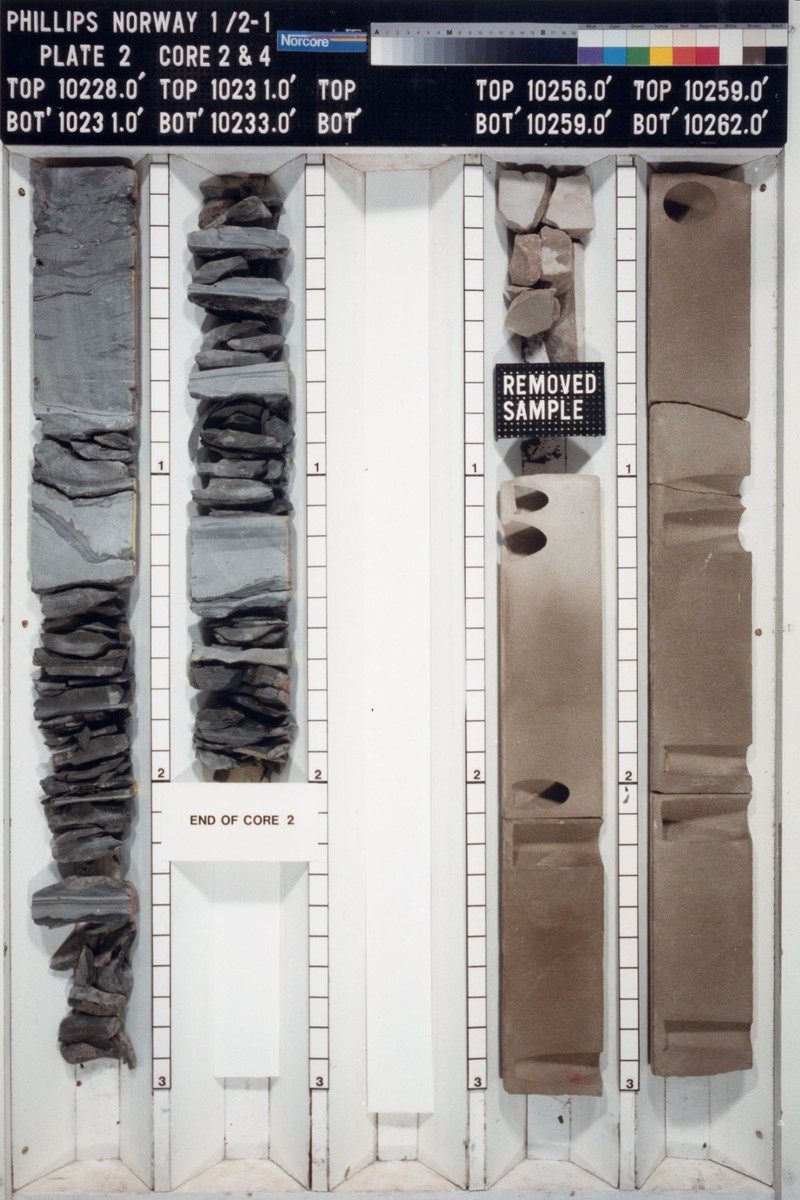core: (29, 161, 142, 1072), (645, 163, 754, 1078), (497, 474, 610, 1098), (186, 172, 297, 779), (498, 166, 600, 364)
